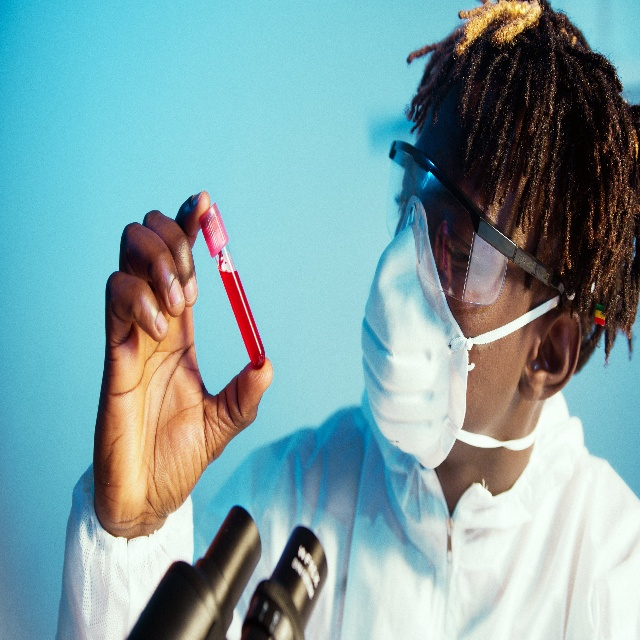Gafas: (387, 137, 577, 324)
Mascara: (361, 196, 471, 464)
Sin_guantes: (90, 189, 273, 522)
